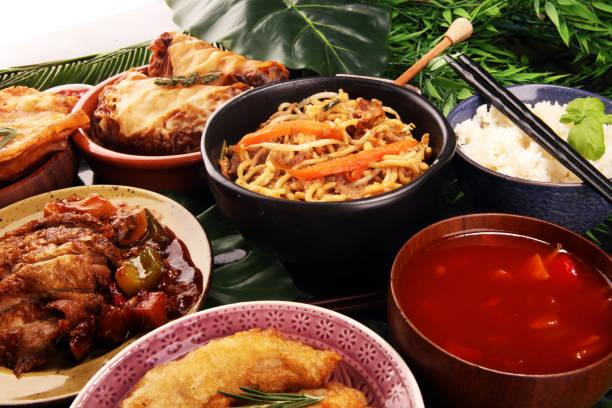Braised Crucian Carp: (201, 76, 455, 285), (3, 184, 213, 406), (71, 281, 433, 408), (385, 211, 608, 407), (70, 28, 272, 196), (446, 82, 607, 244)
